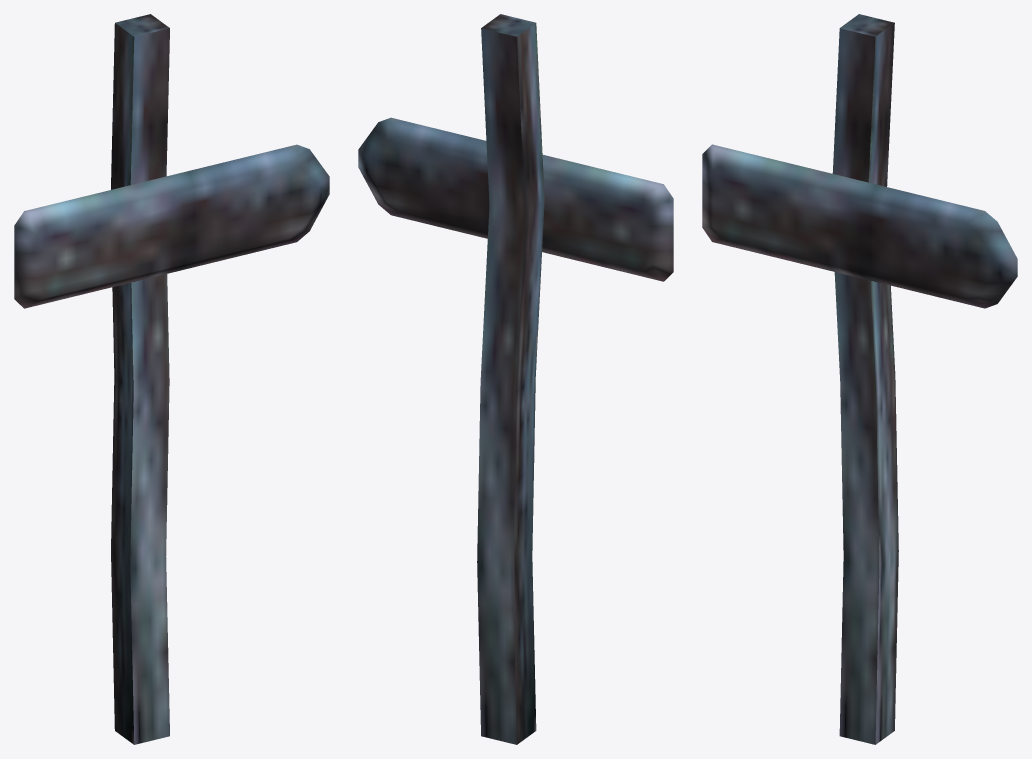
The model's file is sign.fbx.
3 views of the same model, side by side, from view 1: azimuth 30°, elevation 25°; view 2: azimuth 150°, elevation 25°; view 3: azimuth 330°, elevation 25° (orthographic).
Visible parts, largest first — view 1: pillar, sign; view 2: pillar, sign; view 3: pillar, sign.
Part boxes in pixels (x1,y1,x2,y2): pillar: (111,14,169,744); sign: (14,144,329,308); pillar: (477,14,544,744); sign: (358,117,673,281); pillar: (832,14,898,744); sign: (702,144,1017,308).
Size of the model in its own units: 96.39 by 207 by 20.
Materials: 1 (1 with a texture image).
